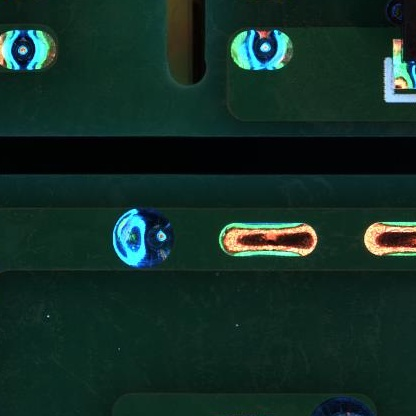spot: (112, 205, 175, 268), (229, 30, 293, 71), (1, 31, 56, 70)
